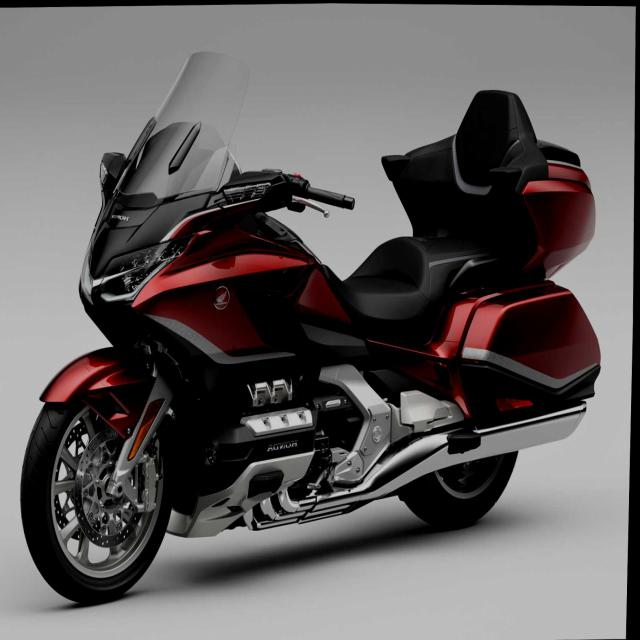Gold Wing: (15, 36, 614, 616)
